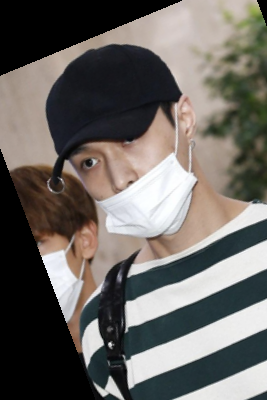mask_weared_incorrect: (32, 52, 220, 247)
